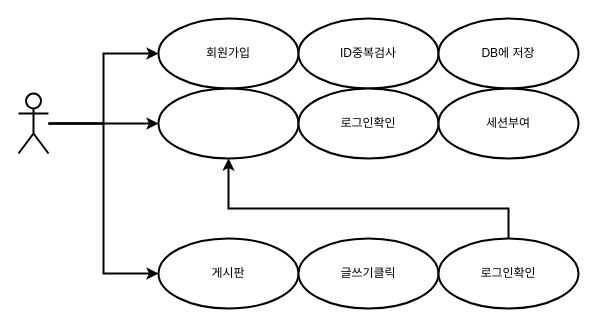
Some shapes in this 596 by 326 pixel diagram are drawn without their labels. Here are the shapes that lost their labels. From the top down, the centre of each, then its label:
At point 33,123: "Actor".
At point 228,123: "로그인".
